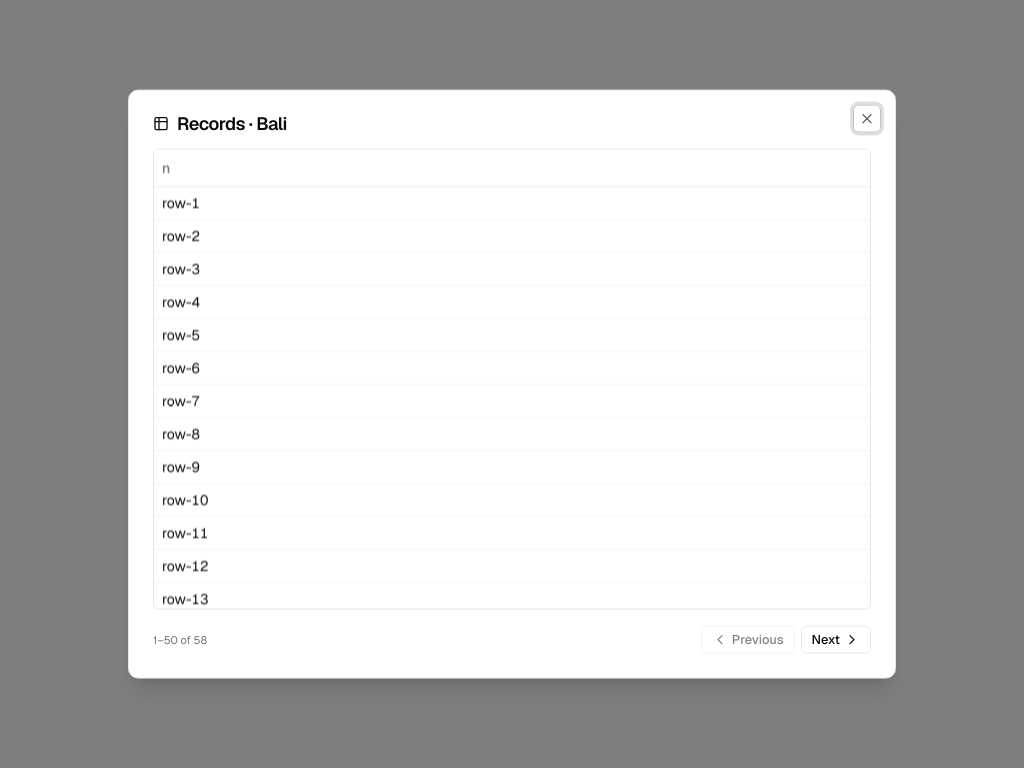
it: RecordsDialog › opens a row as one record with every field, and Back returns to the same page
Check: the text "1–50 of 58" is shown, box [153,632,207,646]
Click the text "row-3": point(181, 269) [154,252,870,285]
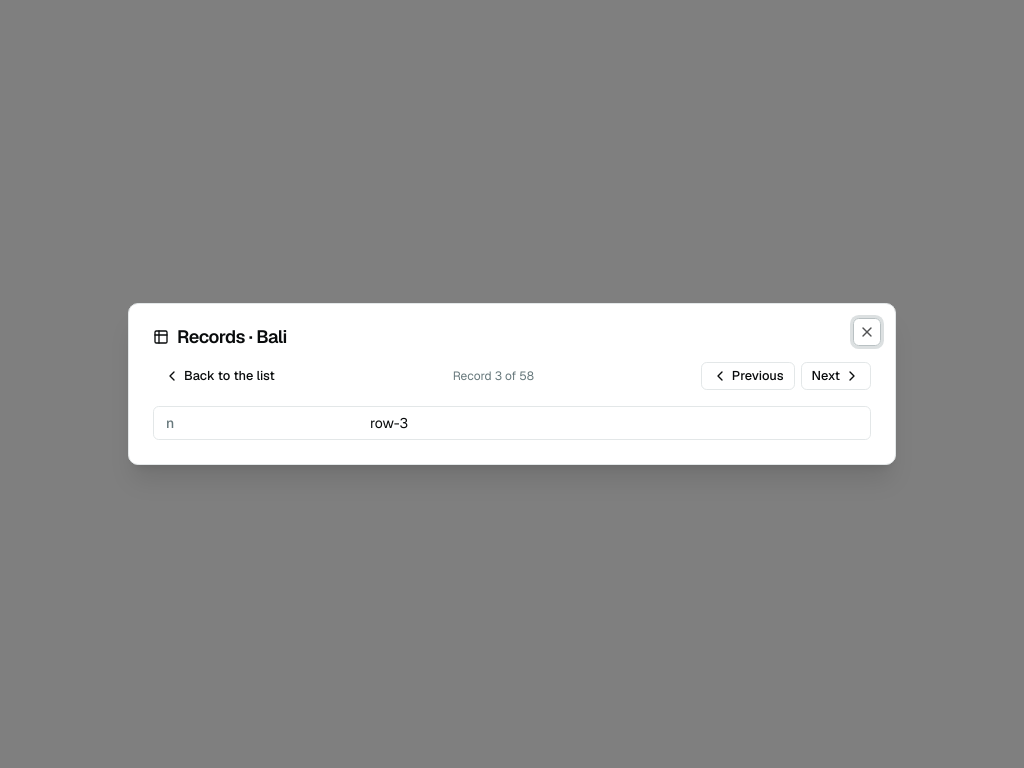
Check: the text "n" is shown, box [166,414,174,432]
Check: the text "Record 3 of 58" is shown, box [453,368,534,384]
Click the button "Back to the list": point(219, 376) [153,362,286,390]
(page scrolled)
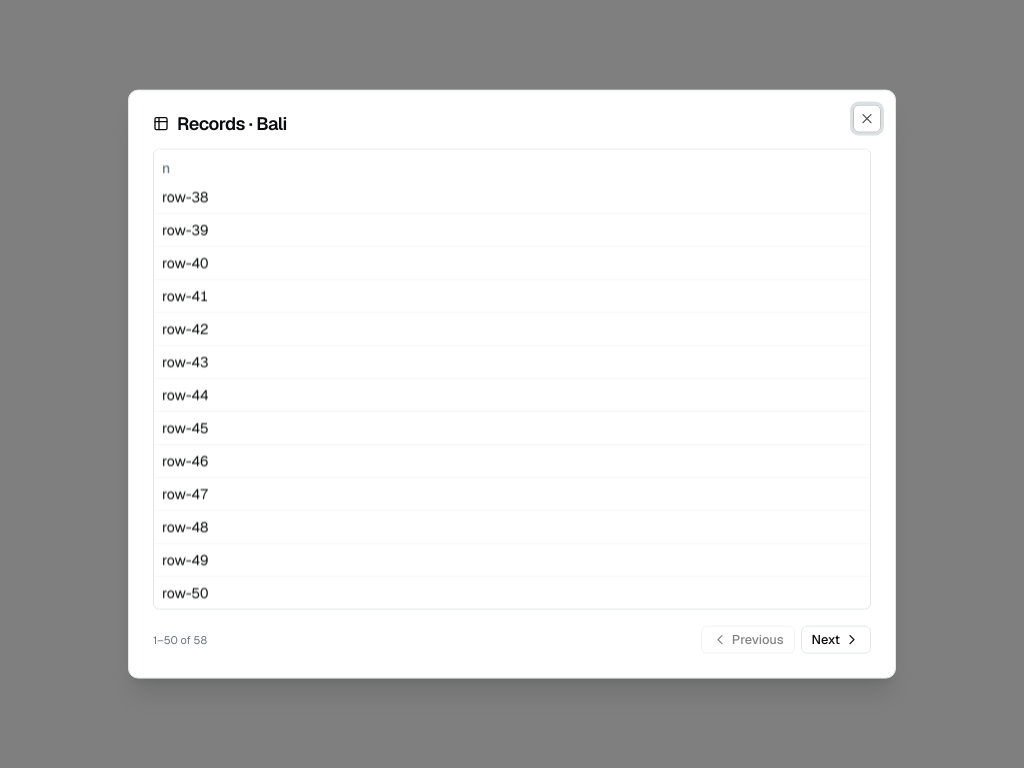
Check: the text "1–50 of 58" is shown, box [153,632,207,646]
Check: the text "row-50" is shown, box [154,576,870,609]
